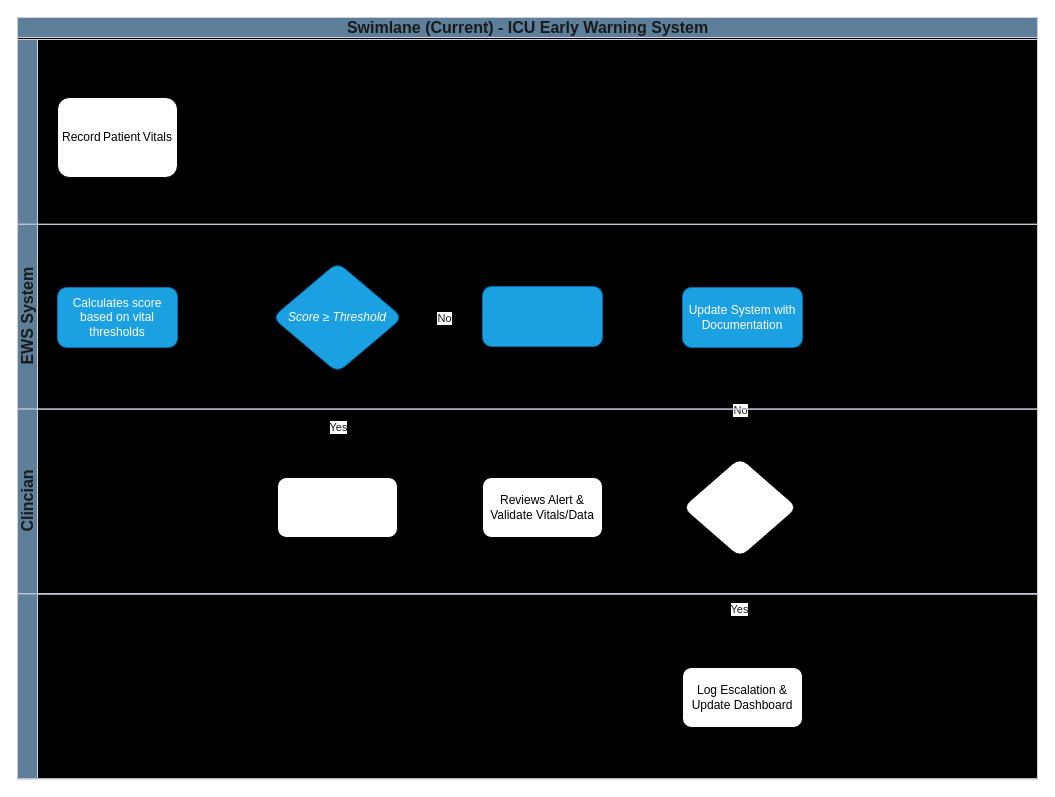
Image size: 1055x797. Some labels were removed from this diagram. The shapes that lost their labels are listed below. From the top down, each one's box as (x1, y1, x2, y2) in pixels, then its label:
(16, 38, 1038, 224): Nurse
(482, 286, 602, 346): No action needed
(276, 476, 398, 538): Alert
(682, 456, 798, 558): Intervention Required?
(16, 593, 1038, 779): ICU Coordinator
